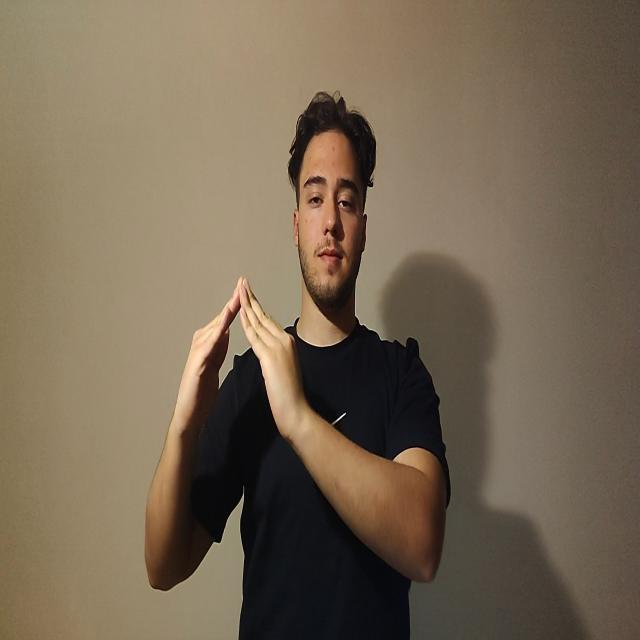house: (170, 276, 300, 452)
